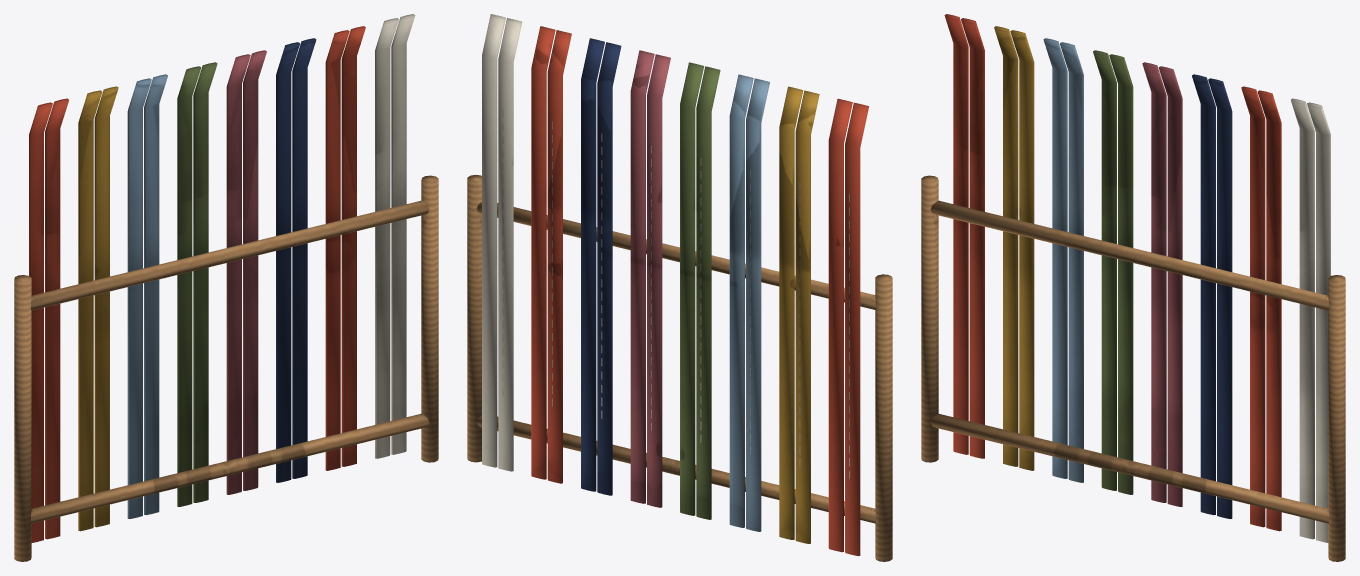
The model's file is ski_rack.glb.
The picture shows the model from 3 angles, left to right: view 1: azimuth 30°, elevation 25°; view 2: azimuth 150°, elevation 25°; view 3: azimuth 330°, elevation 25°; orthographic projection.
Parts seen in each view (by area): view 1: prop_ski_rack_felt, prop_ski_rack_wood; view 2: prop_ski_rack_felt, prop_ski_rack_wood; view 3: prop_ski_rack_felt, prop_ski_rack_wood.
Part boxes in pixels (x1,y1,x2,y2): prop_ski_rack_felt: (29, 14, 415, 542); prop_ski_rack_wood: (14, 175, 438, 561); prop_ski_rack_felt: (482, 14, 868, 556); prop_ski_rack_wood: (467, 175, 892, 561); prop_ski_rack_felt: (944, 14, 1330, 542); prop_ski_rack_wood: (921, 175, 1345, 561).
Size of the model in its own units: 3.31 by 3.37 by 0.196.
2 materials, 2 textured.
